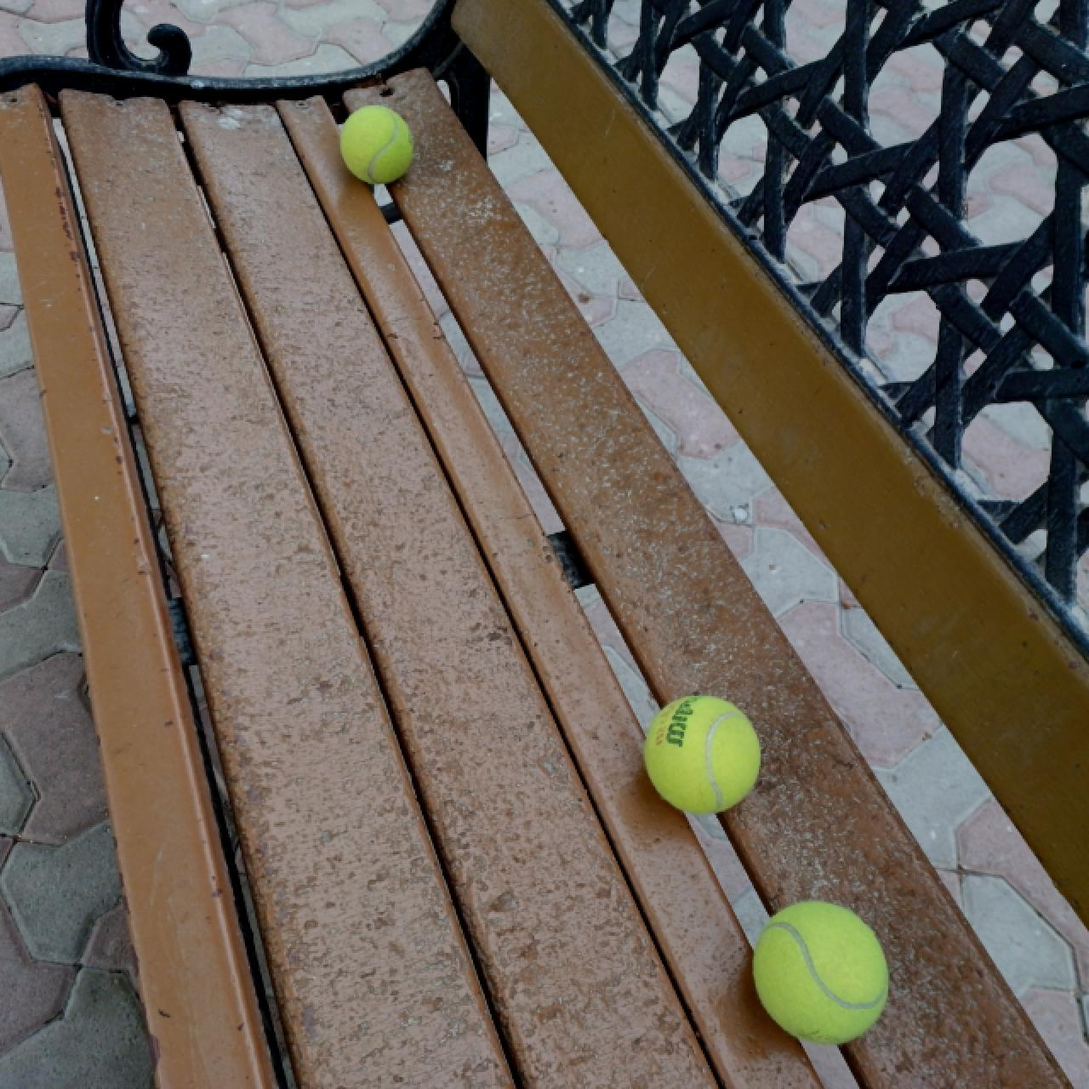tennis-ball: (752, 899, 888, 1049), (642, 693, 766, 817), (337, 102, 415, 185)
